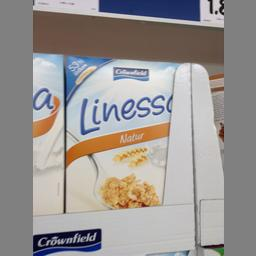cereal: (65, 54, 183, 212), (32, 52, 63, 214)
